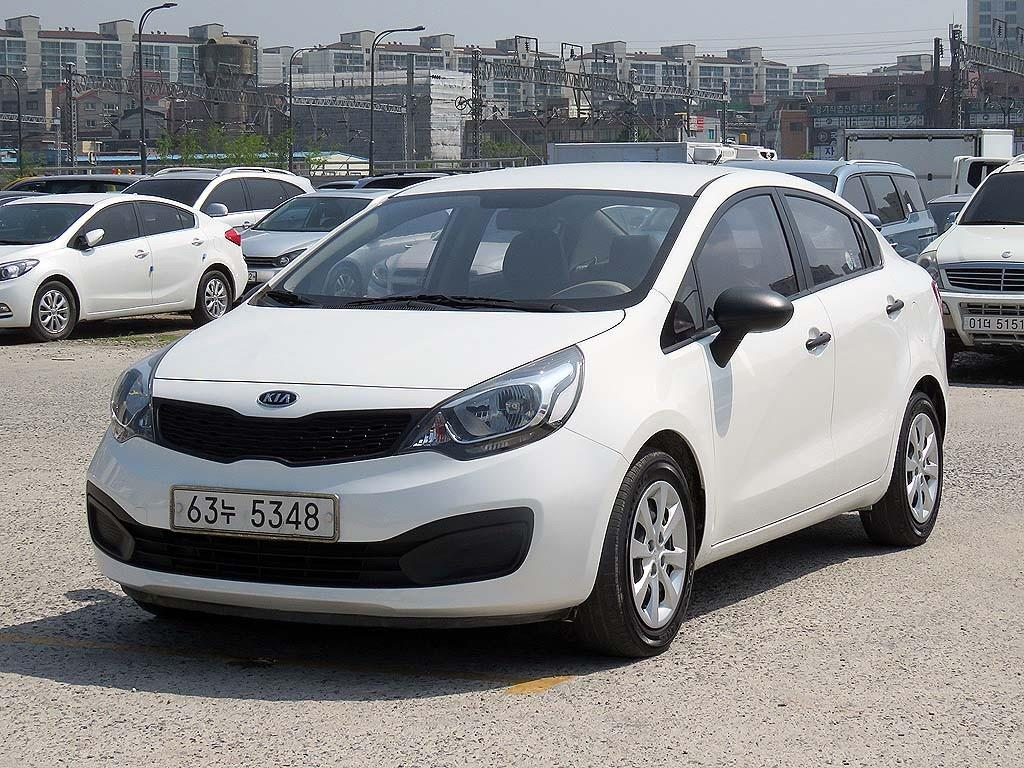plate: (173, 489, 335, 539)
